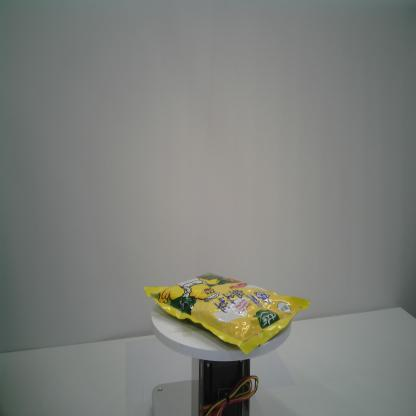Seasoner: (141, 270, 311, 356)
